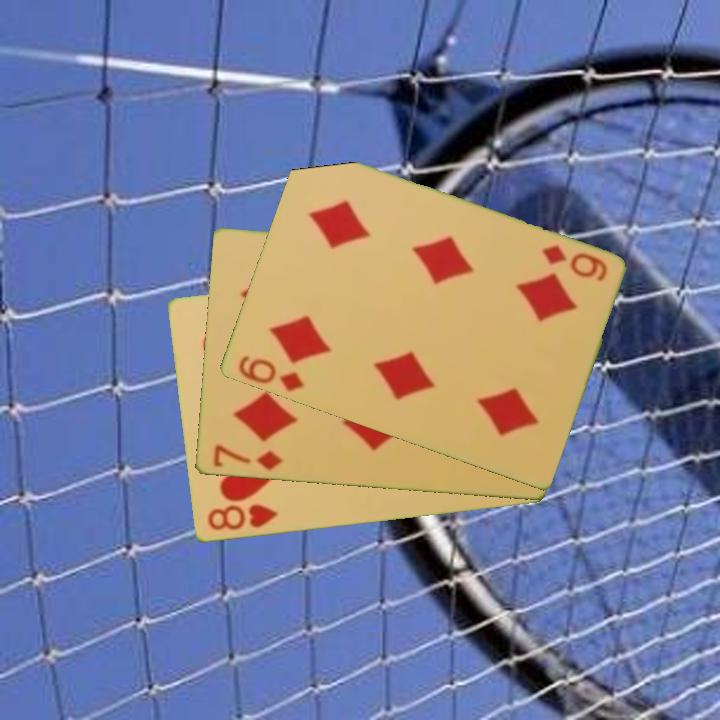6d: (538, 241, 610, 285), (234, 352, 307, 395)
7d: (209, 441, 285, 474)
8h: (203, 501, 281, 534)
